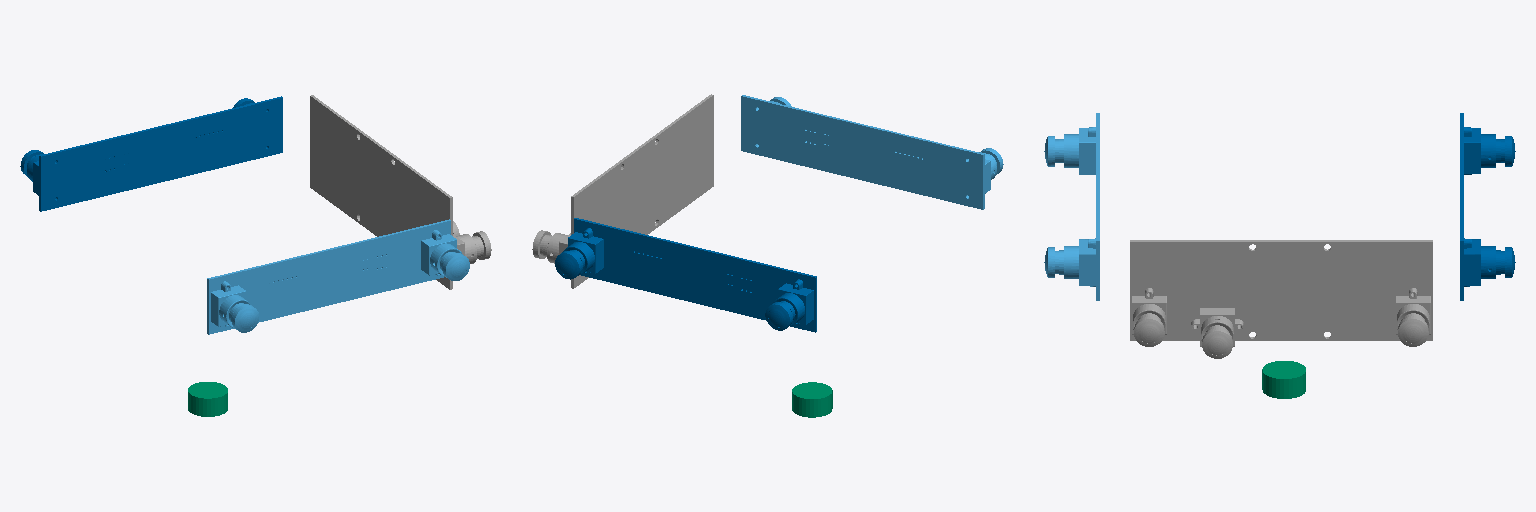
URDF robot description (quadrotor):
<?xml version="1.0" ?>
<!-- =================================================================================== -->
<!-- |    This document was autogenerated by xacro from falcon4_os1_16_256.urdf.xacro  | -->
<!-- |    EDITING THIS FILE BY HAND IS NOT RECOMMENDED                                 | -->
<!-- =================================================================================== -->
<robot name="quadrotor">
  <link name="base_link">
    <inertial>
      <mass value="1.8"/>
      <origin xyz="0 0 0.12"/>
      <inertia ixx="0.004" ixy="0.0" ixz="0.0" iyy="0.004" iyz="0.0" izz="0.00496"/>
    </inertial>
    <visual>
      <origin rpy="0 0 -1.5707963267948966" xyz="0 0 0.05"/>
      <geometry>
        <mesh filename="package://mrsl_models/models/falcon4/falcon4.dae"/>
        <!--cylinder radius="0.05" length="0.01"/-->
      </geometry>
    </visual>
    <collision>
      <origin rpy="0 0 0" xyz="0 0 0.11"/>
      <geometry>
        <cylinder length="0.2" radius="0.52"/>
      </geometry>
    </collision>
  </link>
  <joint name="bonus_right_joint" type="fixed">
    <origin rpy="0 0 -1.5707963267948966" xyz="0.02 -0.084 0.08"/>
    <parent link="base_link"/>
    <child link="bonus_right_link"/>
  </joint>
  <link name="bonus_right_link">
    <inertial>
      <mass value="0.000001"/>
      <origin rpy="0 0 0" xyz="0 0 0"/>
      <inertia ixx="5.8083e-4" ixy="0" ixz="0" iyy="3.0833e-5" iyz="0" izz="5.9083e-4"/>
    </inertial>
    <visual>
      <origin rpy="1.5707963267948966 0 1.5707963267948966" xyz="0.0 -0.105 -0.02"/>
      <geometry>
        <mesh filename="package://mrsl_models/models/sensors/ovc3/ovc3_external_camera.dae"/>
      </geometry>
    </visual>
  </link>
  <joint name="bonus_right_camera_joint" type="fixed">
    <origin rpy="0 0 0" xyz="0.002 0.06 -0.004"/>
    <parent link="bonus_right_link"/>
    <child link="bonus_right_camera_frame"/>
  </joint>
  <link name="bonus_right_camera_frame"/>
  <joint name="bonus_right_camera_optical_joint" type="fixed">
    <origin rpy="-1.5707963267948966 0.0 -1.5707963267948966" xyz="0 0 0"/>
    <parent link="bonus_right_camera_frame"/>
    <child link="bonus_right_camera_optical_frame"/>
  </joint>
  <link name="bonus_right_camera_optical_frame"/>
  <!-- camera -->
  <gazebo reference="bonus_right_link">
    <sensor name="gazebo_bonus_right_camera" type="multicamera">
      <update_rate>30</update_rate>
      <camera name="left">
        <pose>0 0.06 0 0 0 0</pose>
        <horizontal_fov>1.5707963267948966</horizontal_fov>
        <image>
          <width>1280 </width>
          <height> 800</height>
          <format>L8</format>
        </image>
        <clip>
          <near>0.1</near>
          <far>20</far>
        </clip>
      </camera>
      <camera name="right">
        <pose>0 -0.06 0 0 0 0</pose>
        <horizontal_fov>1.5707963267948966</horizontal_fov>
        <image>
          <width>1280 </width>
          <height> 800</height>
          <format>L8</format>
        </image>
        <clip>
          <near>0.1</near>
          <far>20</far>
        </clip>
      </camera>
      <plugin filename="libgazebo_ros_multicamera.so" name="bonus_right_controller">
        <alwaysOn>true</alwaysOn>
        <updateRate>30</updateRate>
        <cameraName>bonus_right</cameraName>
        <imageTopicName>image_raw</imageTopicName>
        <cameraInfoTopicName>camera_info</cameraInfoTopicName>
        <frameName>ovc_camera_link_optical</frameName>
        <hackBaseline>0.12</hackBaseline>
        <CxPrime>640.5</CxPrime>
        <Cx>640.5</Cx>
        <Cy>400.5</Cy>
        <!--<focalLength>${focal_length}</focalLength>-->
        <!-- image_width / (2*tan(hfov_radian /2)) -->
        <distortionK1>0.0</distortionK1>
        <distortionK2>0.0</distortionK2>
        <distortionK3>0.0</distortionK3>
        <distortionT1>0.0</distortionT1>
        <distortionT2>0.0</distortionT2>
      </plugin>
    </sensor>
  </gazebo>
  <joint name="bonus_left_joint" type="fixed">
    <origin rpy="0 0 1.5707963267948966" xyz="0.02 0.08 0.08"/>
    <parent link="base_link"/>
    <child link="bonus_left_link"/>
  </joint>
  <link name="bonus_left_link">
    <inertial>
      <mass value="0.000001"/>
      <origin rpy="0 0 0" xyz="0 0 0"/>
      <inertia ixx="5.8083e-4" ixy="0" ixz="0" iyy="3.0833e-5" iyz="0" izz="5.9083e-4"/>
    </inertial>
    <visual>
      <origin rpy="1.5707963267948966 0 1.5707963267948966" xyz="0.0 -0.105 -0.02"/>
      <geometry>
        <mesh filename="package://mrsl_models/models/sensors/ovc3/ovc3_external_camera.dae"/>
      </geometry>
    </visual>
  </link>
  <joint name="bonus_left_camera_joint" type="fixed">
    <origin rpy="0 0 0" xyz="0.002 0.06 -0.004"/>
    <parent link="bonus_left_link"/>
    <child link="bonus_left_camera_frame"/>
  </joint>
  <link name="bonus_left_camera_frame"/>
  <joint name="bonus_left_camera_optical_joint" type="fixed">
    <origin rpy="-1.5707963267948966 0.0 -1.5707963267948966" xyz="0 0 0"/>
    <parent link="bonus_left_camera_frame"/>
    <child link="bonus_left_camera_optical_frame"/>
  </joint>
  <link name="bonus_left_camera_optical_frame"/>
  <!-- camera -->
  <gazebo reference="bonus_left_link">
    <sensor name="gazebo_bonus_left_camera" type="multicamera">
      <update_rate>30</update_rate>
      <camera name="left">
        <pose>0 0.06 0 0 0 0</pose>
        <horizontal_fov>1.5707963267948966</horizontal_fov>
        <image>
          <width>1280 </width>
          <height> 800</height>
          <format>L8</format>
        </image>
        <clip>
          <near>0.1</near>
          <far>20</far>
        </clip>
      </camera>
      <camera name="right">
        <pose>0 -0.06 0 0 0 0</pose>
        <horizontal_fov>1.5707963267948966</horizontal_fov>
        <image>
          <width>1280 </width>
          <height> 800</height>
          <format>L8</format>
        </image>
        <clip>
          <near>0.1</near>
          <far>20</far>
        </clip>
      </camera>
      <plugin filename="libgazebo_ros_multicamera.so" name="bonus_left_controller">
        <alwaysOn>true</alwaysOn>
        <updateRate>30</updateRate>
        <cameraName>bonus_left</cameraName>
        <imageTopicName>image_raw</imageTopicName>
        <cameraInfoTopicName>camera_info</cameraInfoTopicName>
        <frameName>ovc_camera_link_optical</frameName>
        <hackBaseline>0.12</hackBaseline>
        <CxPrime>640.5</CxPrime>
        <Cx>640.5</Cx>
        <Cy>400.5</Cy>
        <!--<focalLength>${focal_length}</focalLength>-->
        <!-- image_width / (2*tan(hfov_radian /2)) -->
        <distortionK1>0.0</distortionK1>
        <distortionK2>0.0</distortionK2>
        <distortionK3>0.0</distortionK3>
        <distortionT1>0.0</distortionT1>
        <distortionT2>0.0</distortionT2>
      </plugin>
    </sensor>
  </gazebo>
  <joint name="/ovc3_joint" type="fixed">
    <origin rpy="0 0 0" xyz="0.1 0 0.065"/>
    <parent link="base_link"/>
    <child link="/ovc3_link"/>
  </joint>
  <link name="/ovc3_link">
    <inertial>
      <mass value="0.000001"/>
      <origin rpy="0 0 0" xyz="0 0 0"/>
      <inertia ixx="5.8083e-4" ixy="0" ixz="0" iyy="3.0833e-5" iyz="0" izz="5.9083e-4"/>
    </inertial>
    <visual>
      <origin rpy="1.5707963267948966 0 1.5707963267948966" xyz="-0.008 -0.0711 -0.02"/>
      <geometry>
        <mesh filename="package://mrsl_models/models/sensors/ovc3/ovc3.dae"/>
      </geometry>
    </visual>
  </link>
  <joint name="/ovc3_camera_joint" type="fixed">
    <origin rpy="0 0 0" xyz="0.002 0.06 -0.005"/>
    <parent link="/ovc3_link"/>
    <child link="/ovc3_camera_frame"/>
  </joint>
  <link name="/ovc3_camera_frame"/>
  <joint name="/ovc3_camera_optical_joint" type="fixed">
    <origin rpy="-1.5707963267948966 0.0 -1.5707963267948966" xyz="0 0 0"/>
    <parent link="/ovc3_camera_frame"/>
    <child link="/ovc3_camera_optical_frame"/>
  </joint>
  <link name="/ovc3_camera_optical_frame"/>
  <!-- camera -->
  <gazebo reference="/ovc3_link">
    <sensor name="gazebo_/ovc3_camera" type="multicamera">
      <update_rate>30</update_rate>
      <camera name="left">
        <pose>0 0.06 0 0 0 0</pose>
        <horizontal_fov>1.5707963267948966</horizontal_fov>
        <image>
          <width>1280 </width>
          <height> 800</height>
          <format>L8</format>
        </image>
        <clip>
          <near>0.1</near>
          <far>20</far>
        </clip>
      </camera>
      <camera name="right">
        <pose>0 -0.06 0 0 0 0</pose>
        <horizontal_fov>1.5707963267948966</horizontal_fov>
        <image>
          <width>1280 </width>
          <height> 800</height>
          <format>L8</format>
        </image>
        <clip>
          <near>0.1</near>
          <far>20</far>
        </clip>
      </camera>
      <plugin filename="libgazebo_ros_multicamera.so" name="/ovc3_controller">
        <alwaysOn>true</alwaysOn>
        <updateRate>30</updateRate>
        <cameraName>/ovc3</cameraName>
        <imageTopicName>image_raw</imageTopicName>
        <cameraInfoTopicName>camera_info</cameraInfoTopicName>
        <frameName>ovc_camera_link_optical</frameName>
        <hackBaseline>0.12</hackBaseline>
        <CxPrime>640.5</CxPrime>
        <Cx>640.5</Cx>
        <Cy>400.5</Cy>
        <!--<focalLength>${focal_length}</focalLength>-->
        <!-- image_width / (2*tan(hfov_radian /2)) -->
        <distortionK1>0.0</distortionK1>
        <distortionK2>0.0</distortionK2>
        <distortionK3>0.0</distortionK3>
        <distortionT1>0.0</distortionT1>
        <distortionT2>0.0</distortionT2>
      </plugin>
    </sensor>
  </gazebo>
  <!-- camera -->
  <gazebo reference="/ovc3_link">
    <sensor name="/ovc3" type="camera">
      <update_rate>5.0</update_rate>
      <camera name="head">
        <horizontal_fov>1.5707963267948966</horizontal_fov>
        <image>
          <width>1280</width>
          <height>800</height>
          <format>R8G8B8</format>
        </image>
        <clip>
          <near>0.02</near>
          <far>100</far>
        </clip>
        <noise>
          <type>gaussian</type>
          <mean>0.0</mean>
          <stddev>0.007</stddev>
        </noise>
      </camera>
      <plugin filename="libgazebo_ros_camera.so" name="/ovc3_controller">
        <alwaysOn>true</alwaysOn>
        <updateRate>0.0</updateRate>
        <cameraName>/ovc3</cameraName>
        <imageTopicName>rgb</imageTopicName>
        <cameraInfoTopicName>camera_info</cameraInfoTopicName>
        <frameName>camera_link</frameName>
        <hackBaseline>0.07</hackBaseline>
        <distortionK1>0.0</distortionK1>
        <distortionK2>0.0</distortionK2>
        <distortionK3>0.0</distortionK3>
        <distortionT1>0.0</distortionT1>
        <distortionT2>0.0</distortionT2>
      </plugin>
    </sensor>
  </gazebo>
  <joint name="downward_range_beam_frame_joint" type="fixed">
    <origin rpy="0 1.5707963267948966 0" xyz="0 0 -0.02"/>
    <parent link="base_link"/>
    <child link="downward_range_beam_frame"/>
  </joint>
  <link name="downward_range_beam_frame">
    <inertial>
      <mass value="0.000"/>
      <origin rpy="0 0 0" xyz="0 0 0"/>
      <inertia ixx="2.632e-4" ixy="0" ixz="0" iyy="2.632e-4" iyz="0" izz="1.62e-4"/>
    </inertial>
    <visual>
      <origin rpy="0 1.5707963267948966 0" xyz="0 0 0"/>
      <geometry>
        <cylinder length="0.01" radius="0.01"/>
      </geometry>
    </visual>
  </link>
  <gazebo reference="downward_range_beam_frame">
    <sensor name="downward_range_beam_frame" type="ray">
      <always_on>true</always_on>
      <visualize>true</visualize>
      <update_rate>10</update_rate>
      <pose>0 0 0 0 0 0</pose>
      <visualize>false</visualize>
      <ray>
        <range>
          <min>0.1</min>
          <max>30.0</max>
          <resolution>0.01</resolution>
        </range>
      </ray>
      <plugin filename="libgazebo_ros_range.so" name="gazebo_ros_downward_range_beam_frame_controller">
        <gaussianNoise>0.005</gaussianNoise>
        <radiation>0.005</radiation>
        <alwaysOn>true</alwaysOn>
        <updateRate>10</updateRate>
        <topicName>range</topicName>
        <frameName>downward_range_beam_frame</frameName>
      </plugin>
    </sensor>
  </gazebo>
  <joint name="os1_sensor_mount_joint" type="fixed">
    <origin rpy="0 0 0" xyz="0.01 -0.005 0.24"/>
    <parent link="base_link"/>
    <child link="os1_sensor"/>
  </joint>
  <link name="os1_sensor">
    <inertial>
      <mass value="0.00001"/>
      <origin rpy="0 0 0" xyz="0 0 0.0365"/>
      <inertia ixx="0.000241148" ixy="0" ixz="0" iyy="0.000241148" iyz="0" izz="0.000264"/>
    </inertial>
    <collision name="base_collision">
      <origin rpy="0 0 0" xyz="0 0 0"/>
      <geometry>
        <cylinder length="0.073" radius="0.04"/>
      </geometry>
    </collision>
    <visual name="base_visual">
      <origin rpy="0 0 1.5707" xyz="0 0 0.0"/>
      <geometry>
        <mesh filename="package://mrsl_models/models/sensors/os1-64/os1_64.dae"/>
        <!-- <cylinder length="0.073" radius="0.04" /> -->
      </geometry>
    </visual>
  </link>
  <link name="os1_imu"/>
  <link name="os1_lidar"/>
  <joint name="os1_sensor_imu_link_joint" type="fixed">
    <parent link="os1_sensor"/>
    <child link="os1_imu"/>
    <origin rpy="0 0 0" xyz="0.006253 -0.011775 0.007645"/>
  </joint>
  <gazebo reference="os1_imu">
    </gazebo>
  <joint name="os1_sensor_lidar_link_joint" type="fixed">
    <parent link="os1_sensor"/>
    <child link="os1_lidar"/>
    <origin rpy="0 0 0" xyz="0.0 0.0 0.03618"/>
  </joint>
  <!-- Gazebo requires the ouster_gazebo_plugins package -->
  <gazebo reference="os1_sensor">
    <sensor name="os1_sensor-OS1-64" type="ray">
      <pose>0 0 0 0 0 0</pose>
      <visualize>false</visualize>
      <update_rate>5</update_rate>
      <ray>
        <scan>
          <horizontal>
            <samples>256</samples>
            <resolution>1</resolution>
            <min_angle>-3.141592653589793</min_angle>
            <max_angle>3.141592653589793</max_angle>
          </horizontal>
          <vertical>
            <samples>16</samples>
            <resolution>1</resolution>
            <min_angle>-0.26</min_angle>
            <max_angle>0.26</max_angle>
          </vertical>
        </scan>
        <range>
          <min>0.9</min>
          <max>75.0</max>
          <resolution>0.03</resolution>
        </range>
      </ray>
      <plugin filename="libgazebo_ros_ouster_laser.so" name="gazebo_ros_laser_controller">
        <topicName>falcon4/os1_cloud_node/points</topicName>
        <robotNamespace>/</robotNamespace>
        <frameName>os1_lidar</frameName>
        <min_range>0.9</min_range>
        <max_range>75.0</max_range>
        <gaussianNoise>0.008</gaussianNoise>
      </plugin>
    </sensor>
  </gazebo>
  <!-- IMU -->
  <gazebo>
    <plugin filename="libhector_gazebo_ros_imu.so" name="imu_controller">
      <robotNamespace>/</robotNamespace>
      <updateRate>100.0</updateRate>
      <bodyName>os1_imu</bodyName>
      <topicName>falcon4/os1_cloud_node/imu</topicName>
      <accelDrift>0.005 0.005 0.005</accelDrift>
      <accelGaussianNoise>0.005 0.005 0.005</accelGaussianNoise>
      <rateDrift>0.005 0.005 0.005 </rateDrift>
      <rateGaussianNoise>0.005 0.005 0.005 </rateGaussianNoise>
      <headingDrift>0.005</headingDrift>
      <headingGaussianNoise>0.005</headingGaussianNoise>
    </plugin>
  </gazebo>
  <!-- Plugins -->
  <gazebo>
    <!-- Quad Dynamics Plugin -->
    <plugin filename="libmrsl_quadrotor_propulsion.so" name="quadrotor_propulsion">
      <command_topic>so3_cmd</command_topic>
      <odom_topic>ground_truth/odom</odom_topic>
    </plugin>
    <!-- Quad Ground Truth Plugin -->
    <plugin filename="libgazebo_ros_p3d.so" name="quadrotor_groundtruth_sim">
      <updateRate>100.0</updateRate>
      <bodyName>base_link</bodyName>
      <topicName>ground_truth/odom</topicName>
      <gaussianNoise>0.0</gaussianNoise>
      <frameName>world</frameName>
    </plugin>
  </gazebo>
  <!-- GPS Sensor -->
  <gazebo>
    <plugin filename="libhector_gazebo_ros_gps.so" name="novatel_gps_sim">
      <alwaysOn>1</alwaysOn>
      <updateRate>10.0</updateRate>
      <bodyName>base_link</bodyName>
      <topicName>GPS_Fix</topicName>
      <velocityTopicName>fix_velocity</velocityTopicName>
      <drift>5.0 5.0 5.0</drift>
      <gaussianNoise>0.1 0.1 0.1</gaussianNoise>
      <velocityDrift>0 0 0</velocityDrift>
      <velocityGaussianNoise>0.1 0.1 0.1</velocityGaussianNoise>
    </plugin>
  </gazebo>
</robot>

--- Facts derived from the render (not from the file) ---
Views: 3 orthographic renders of the robot side by side, from view 1: azimuth 30°, elevation 25°; view 2: azimuth 150°, elevation 25°; view 3: azimuth 270°, elevation 25°.
Model quadrotor with 14 links and 13 joints (13 fixed), rooted at base_link, posed all joints at 0.
Visible links, largest first — view 1: bonus_right_link, bonus_left_link, /ovc3_link, downward_range_beam_frame; view 2: bonus_right_link, bonus_left_link, /ovc3_link, downward_range_beam_frame; view 3: /ovc3_link, bonus_right_link, bonus_left_link, downward_range_beam_frame.
Link boxes in pixels (<box>): bonus_right_link: <box>207,219,469,334</box>; bonus_left_link: <box>20,96,282,211</box>; /ovc3_link: <box>310,95,491,289</box>; downward_range_beam_frame: <box>188,382,227,416</box>; bonus_right_link: <box>741,95,1003,209</box>; bonus_left_link: <box>555,218,816,332</box>; /ovc3_link: <box>532,94,713,288</box>; downward_range_beam_frame: <box>792,382,832,417</box>; /ovc3_link: <box>1130,240,1432,358</box>; bonus_right_link: <box>1044,113,1099,300</box>; bonus_left_link: <box>1460,113,1515,300</box>; downward_range_beam_frame: <box>1262,361,1305,398</box>.
Size in the robot's own frame: 0.1723 by 0.2142 by 0.1202 metres.
Meshes: 4 distinct files referenced, 3 mesh visuals loaded (2 Collada DAE); not drawn: 2 (reference not matched to a file when rendering).
